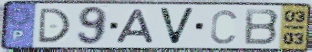9: (77, 5, 111, 47)
A: (114, 8, 158, 45)
B: (243, 8, 282, 46)
C: (209, 8, 239, 45)
D: (36, 7, 73, 45)
V: (157, 6, 198, 47)
